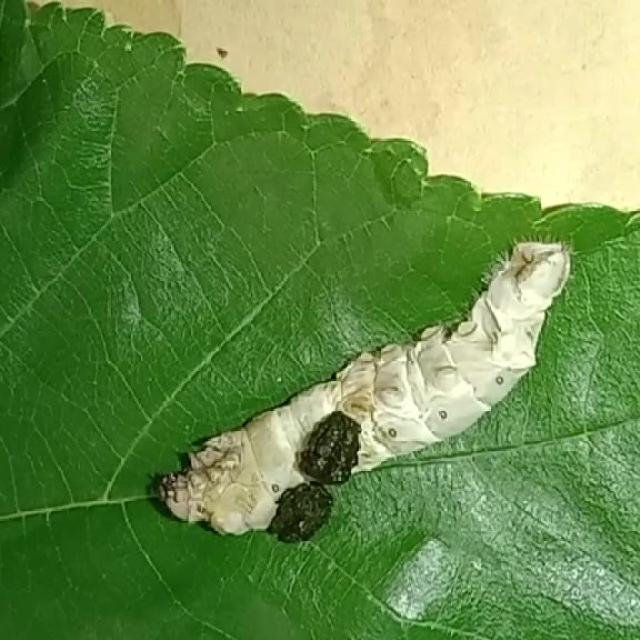Grasserie: (134, 217, 586, 563)
